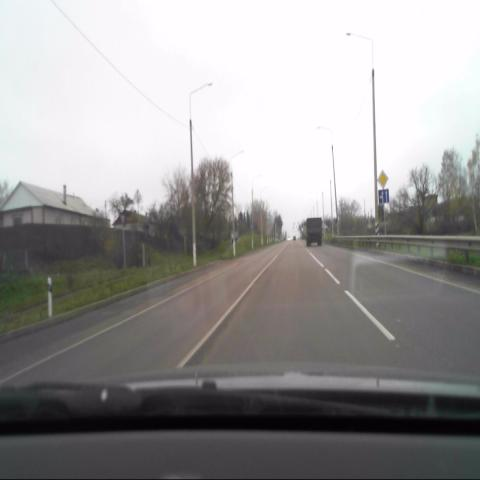2_1: (376, 169, 389, 189)
5_15_2_2: (378, 190, 389, 203)
